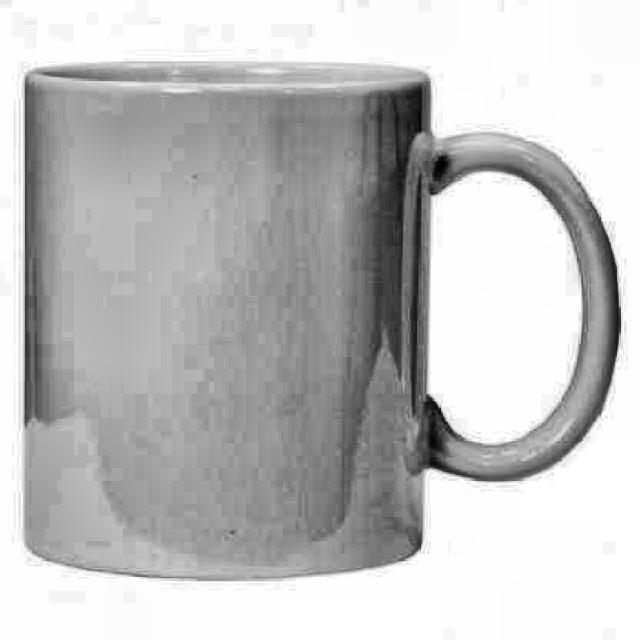Mug: (21, 58, 622, 585)
